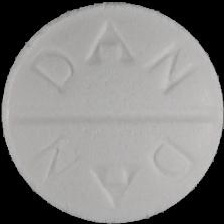42549-543: (0, 0, 224, 224)
